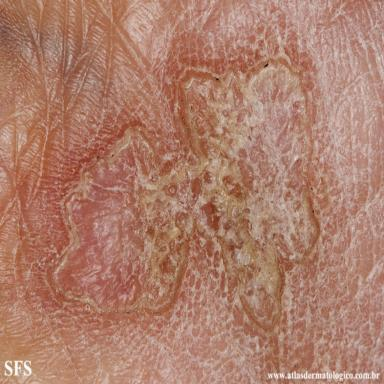Porokeratosis: (53, 60, 319, 330)
